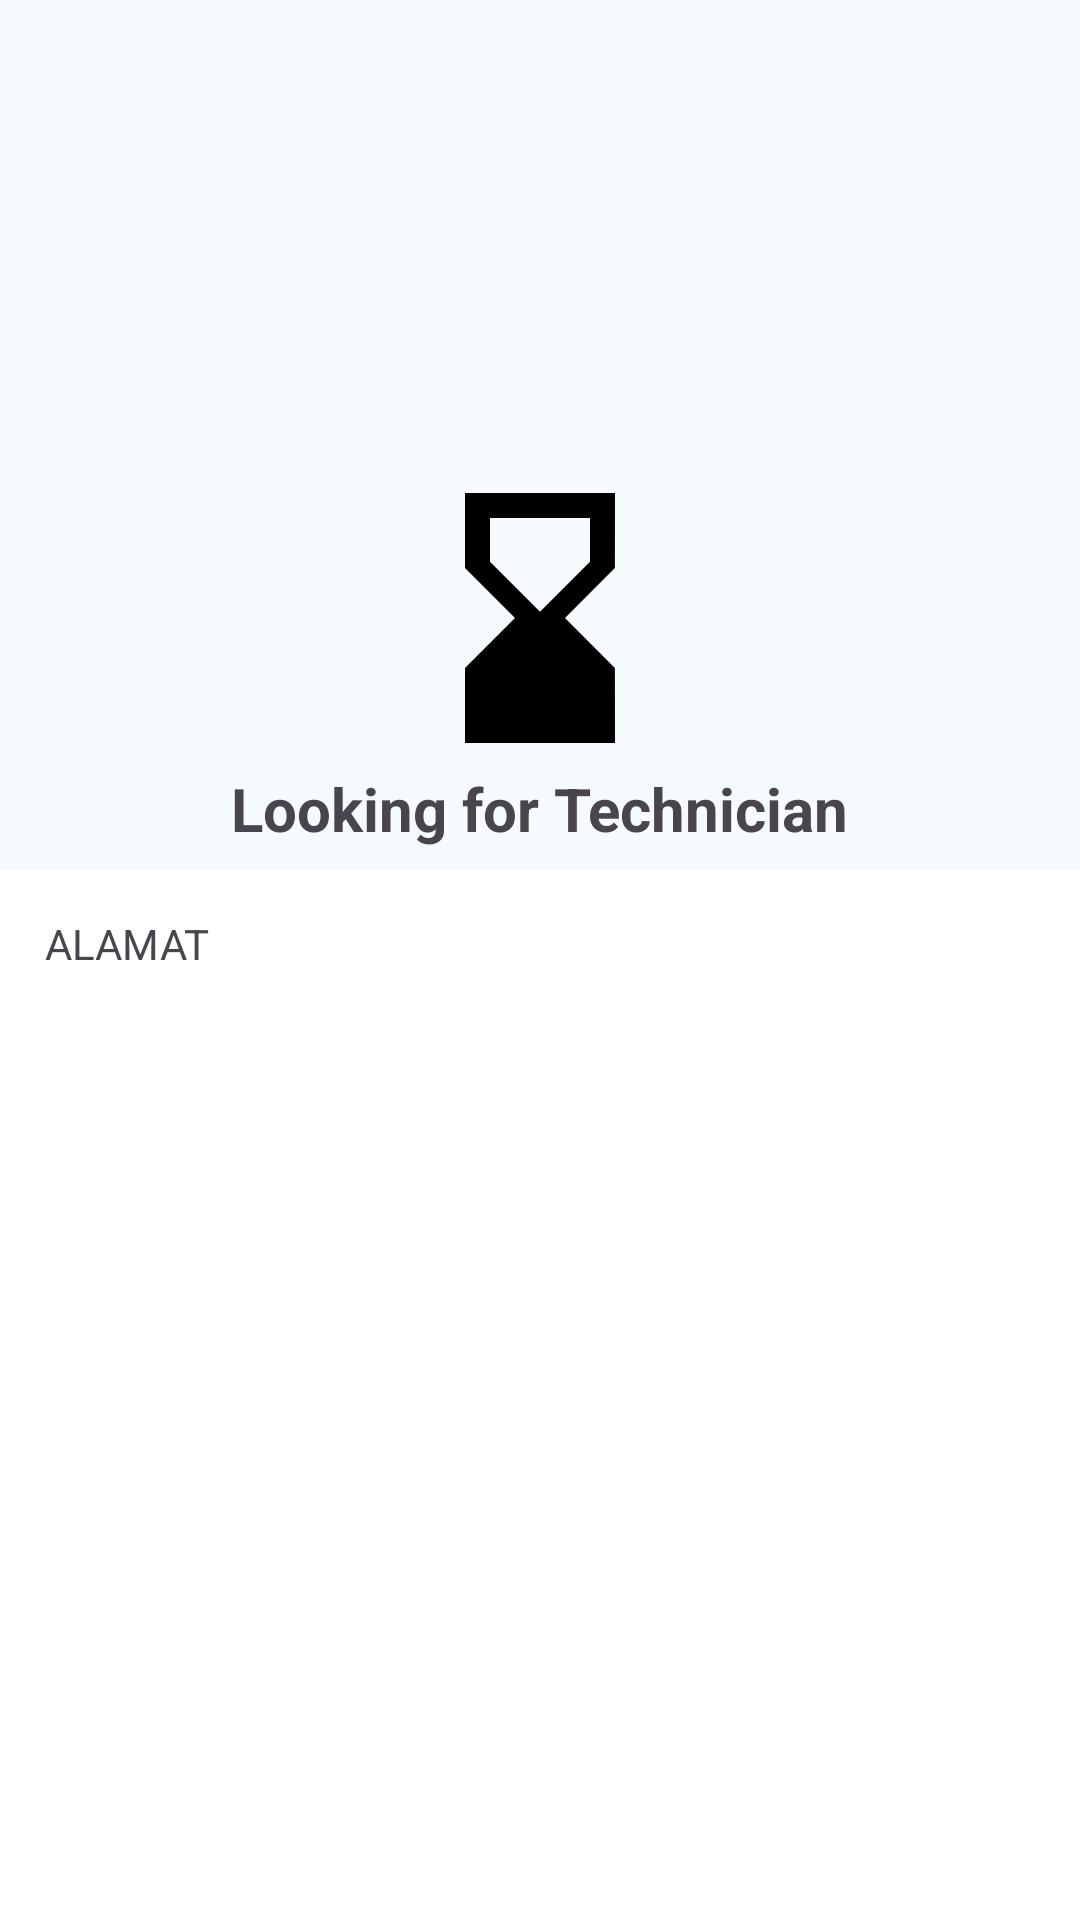

Icon bounding boxes for this 1080 × 1920 phone screenshot, format (x1, y1, x2, y2):
hourglass bottom: (465, 493, 615, 743)
